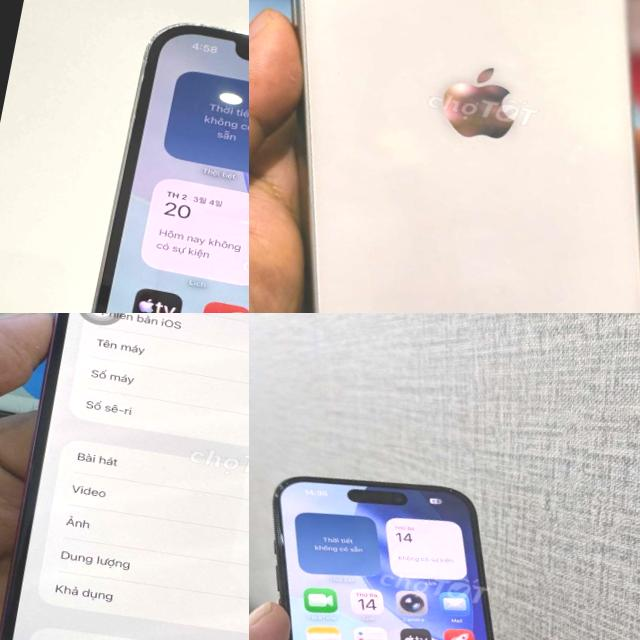gen_12_13: (249, 0, 640, 313), (45, 6, 249, 313)
gen_15: (249, 437, 592, 640)
gen_16: (0, 313, 249, 640)
